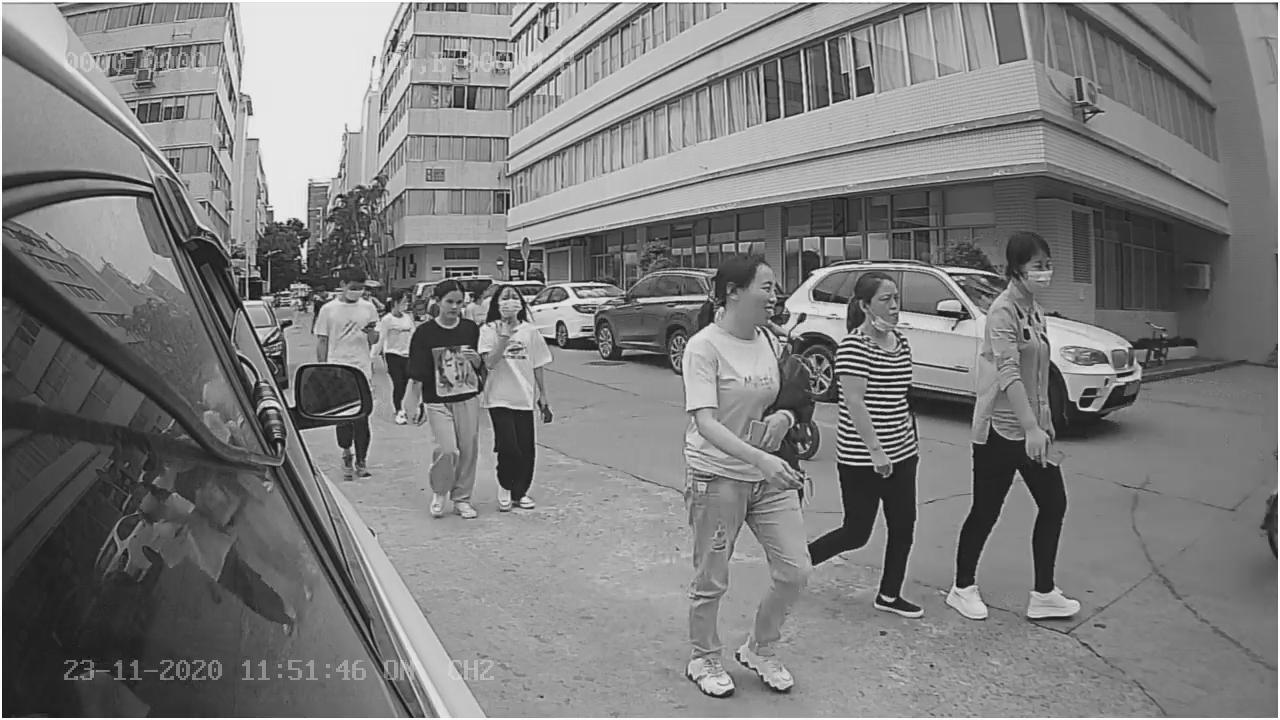person: (945, 233, 1100, 624), (682, 253, 803, 696), (401, 278, 485, 520)
